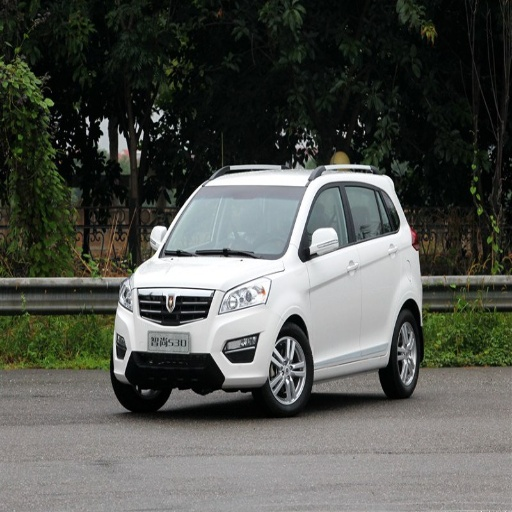front_bumper: (112, 286, 280, 388)
front_glass: (161, 180, 305, 258)
front_left_door: (301, 180, 362, 364)
